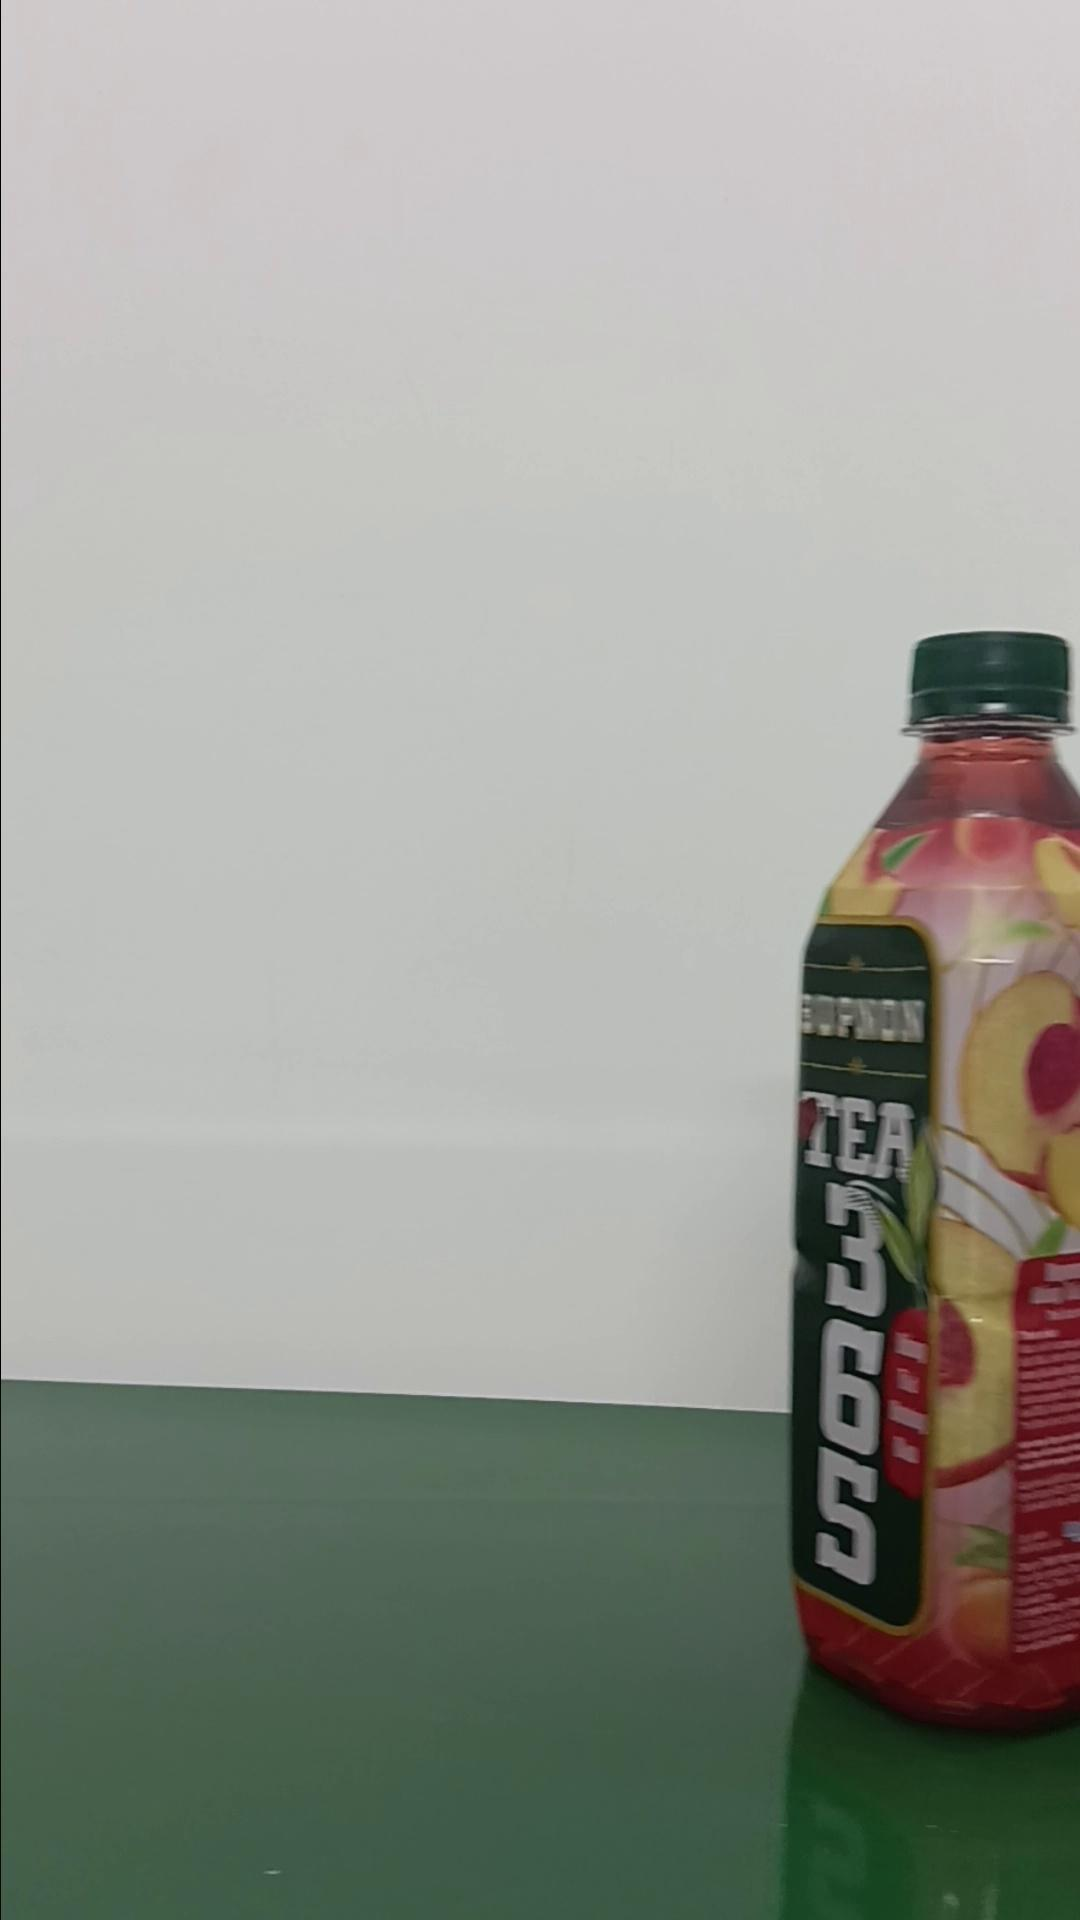loi rach va lap chai: (785, 624, 1077, 1738)
